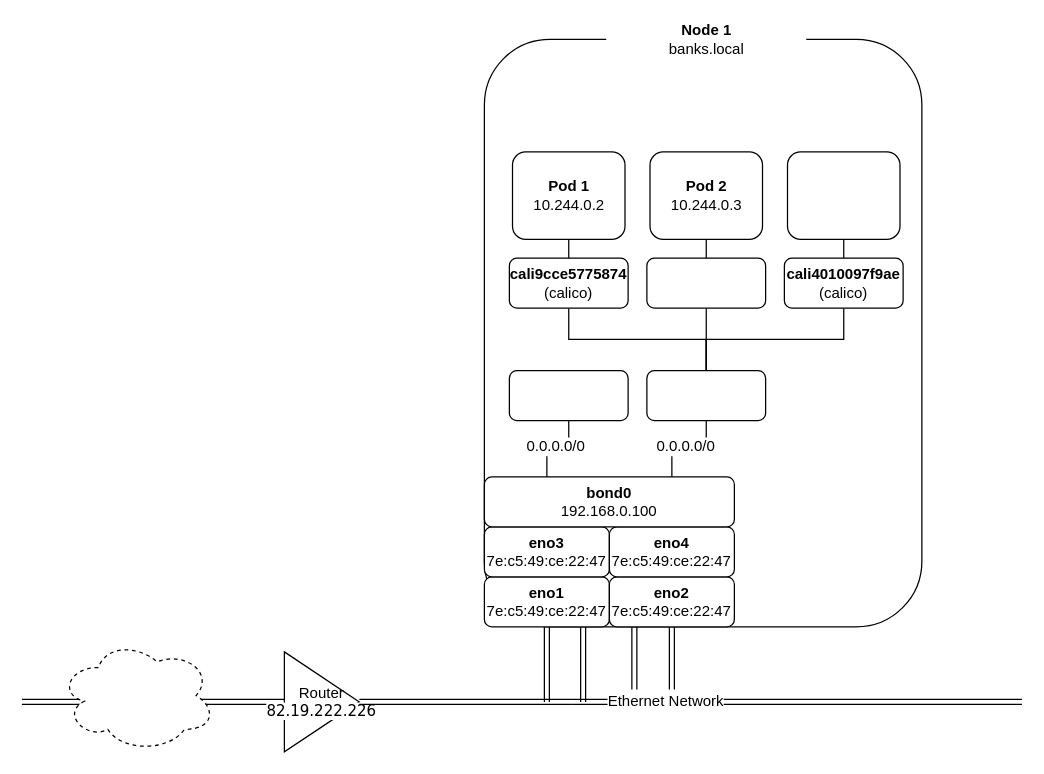
Image size: 1044x774. Some labels were removed from this diagram. Here are the shapes that lost their labels. From the top down, the centre of each, then its label:
pixel 843 195: Pod 3 10.244.0.4
pixel 706 282: cali8bf6cbe9a38 (calico)
pixel 568 395: docker0 172.17.0.1/16
pixel 706 395: flannel.1 10.244.0.0/32
pixel 137 695: Public Internet
